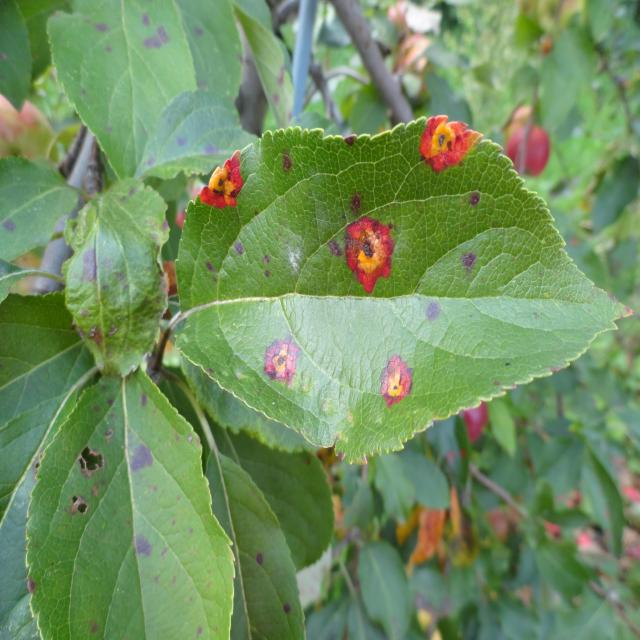Rust: (335, 193, 397, 296), (412, 104, 492, 179), (186, 148, 248, 215), (370, 344, 420, 417), (260, 324, 302, 408)
